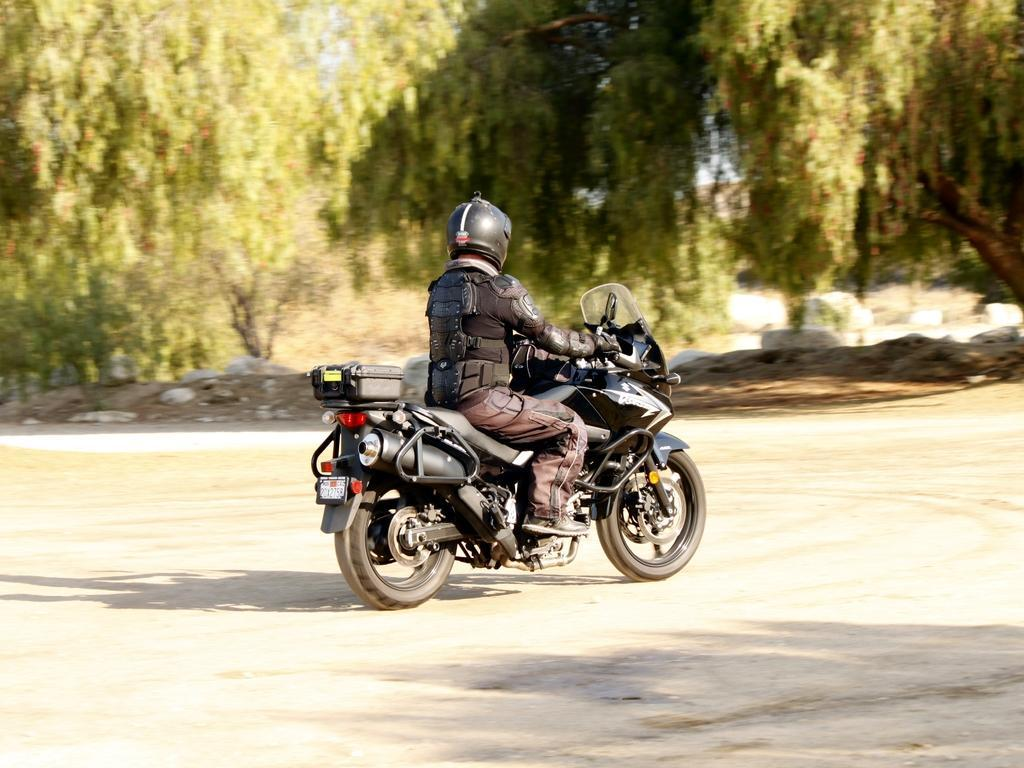helmet: (445, 195, 513, 275)
